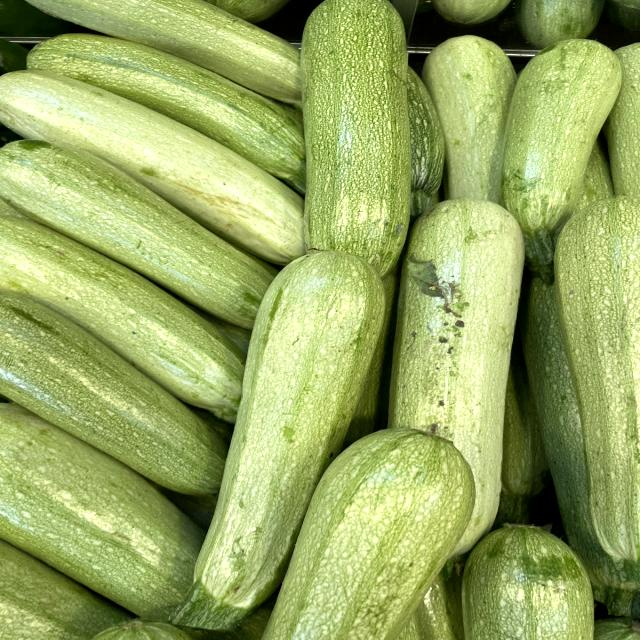zucchini: (163, 237, 393, 638), (298, 2, 422, 266)
